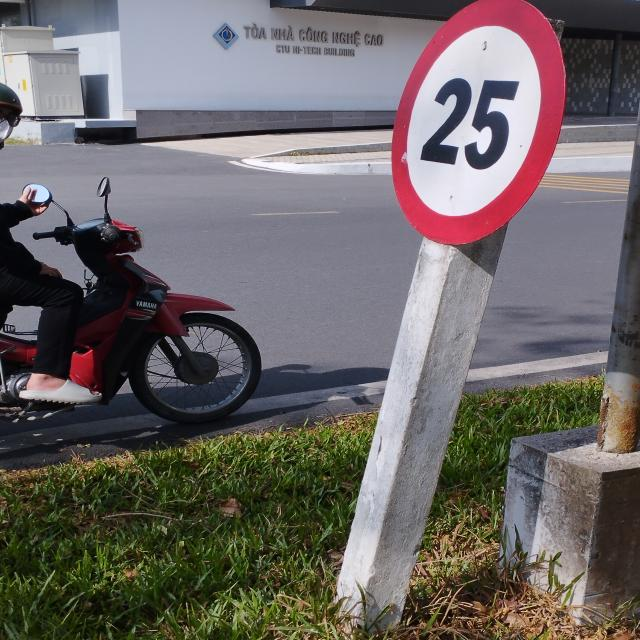Tre_Em: (391, 0, 568, 246)
